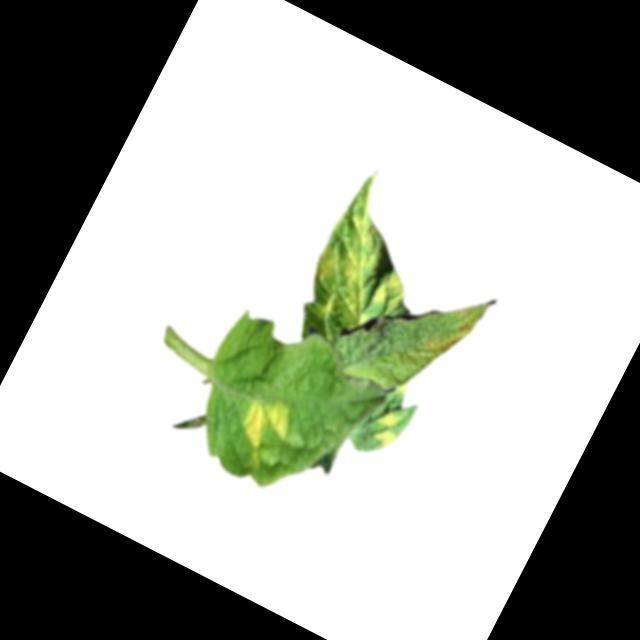Leaf_Mold: (291, 173, 444, 343), (234, 388, 301, 457), (364, 401, 411, 453)
